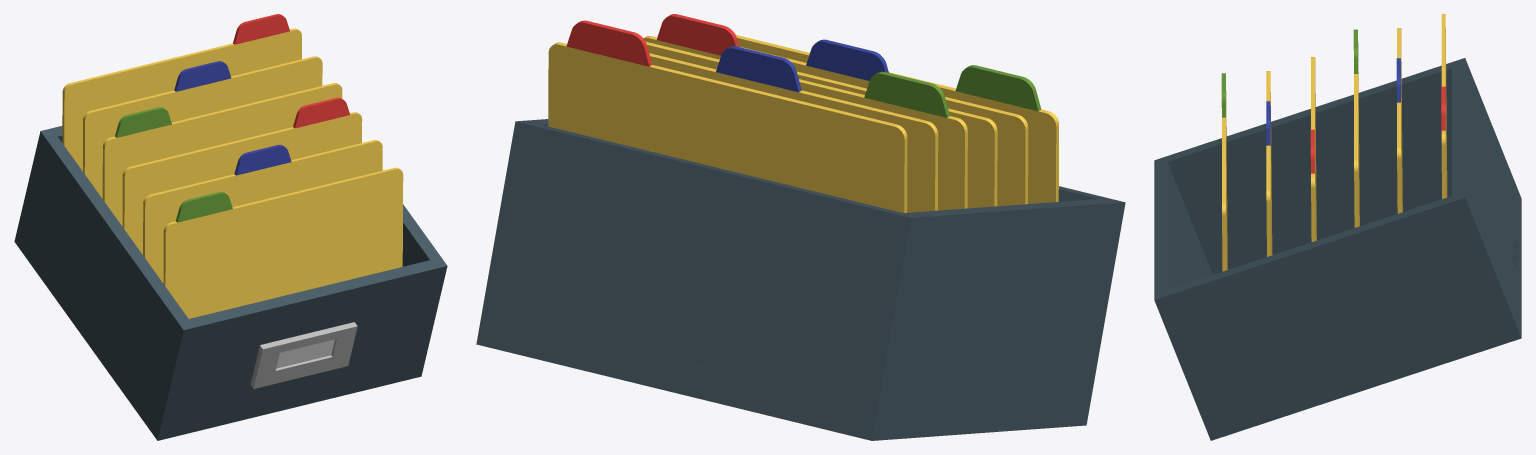
Rendered from card_file_box.fbx.
The picture shows the model from 3 angles, left to right: view 1: azimuth 30°, elevation 25°; view 2: azimuth 150°, elevation 25°; view 3: azimuth 270°, elevation 25°; orthographic projection. The views are drawn at different scales.
Parts seen in each view (by area): view 1: Cube.985; view 2: Cube.985; view 3: Cube.985.
Part boxes in pixels (left/top/right/bottom): Cube.985: left=14, top=14, right=447, bottom=440; Cube.985: left=476, top=14, right=1125, bottom=440; Cube.985: left=1154, top=14, right=1521, bottom=440.
Bounding box in the file's own units: 194 × 205 × 215.
1 material, 1 textured.
